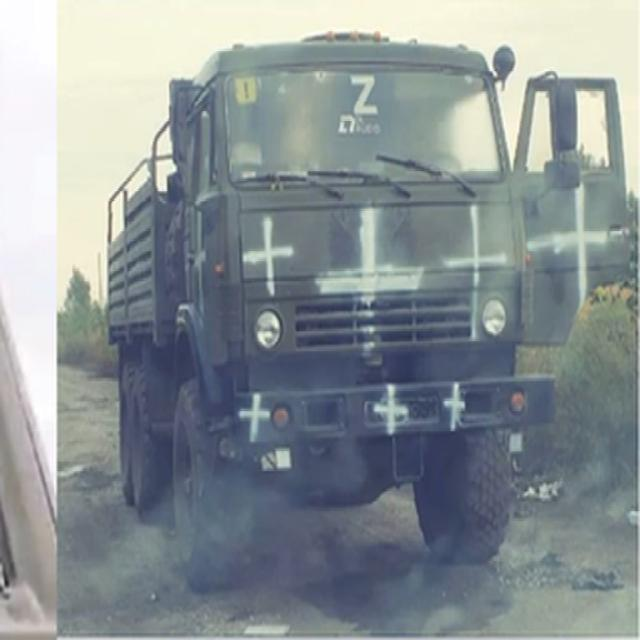TRUCK: (103, 34, 632, 594)
